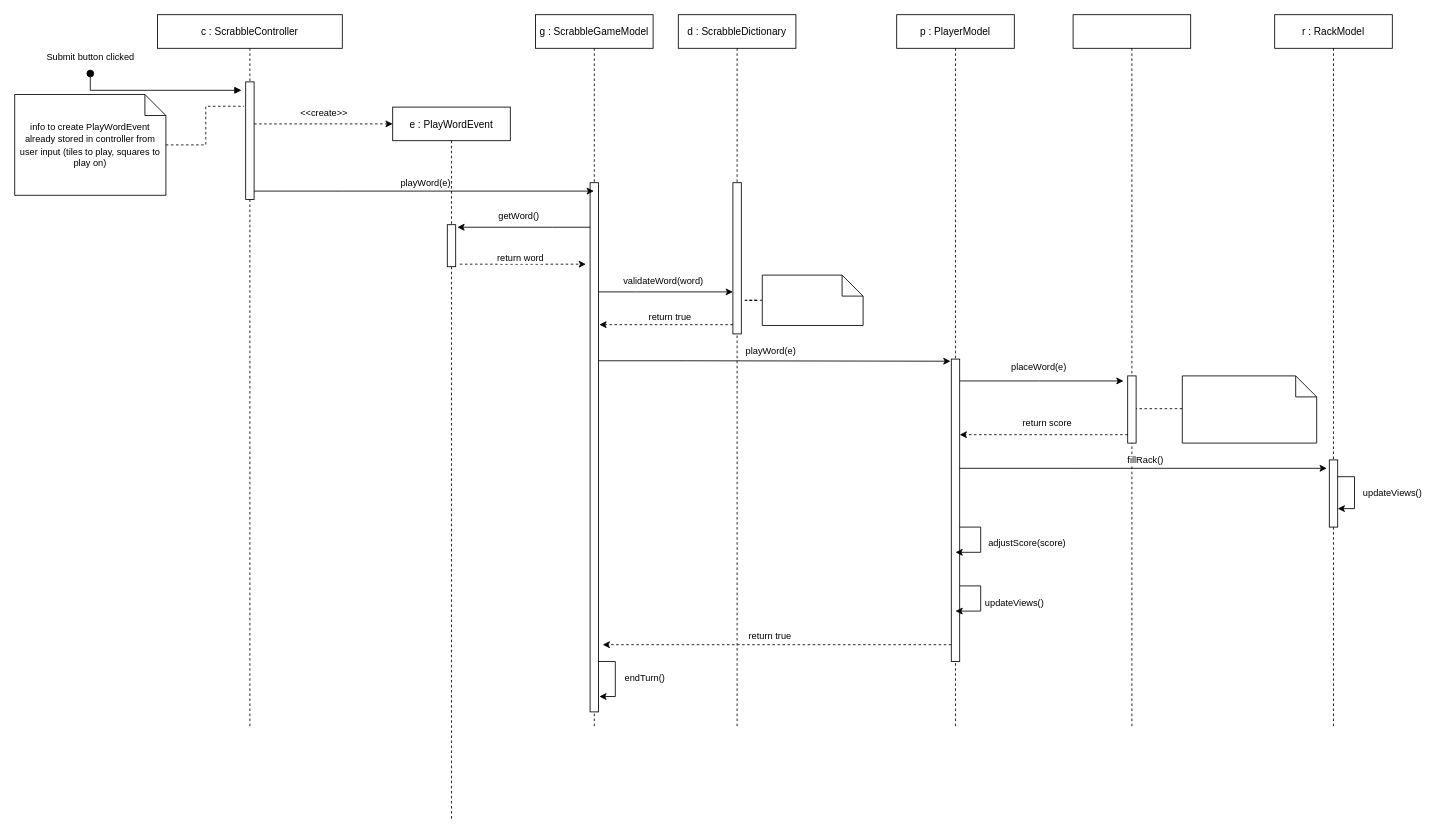
The diagram is 1436 pixels wide and 836 high, and some of its shapes have lost their labels. Each missing label, with the centre of its shape:
"b : BoardModel" goes at (1131,371).
"internal logic to validate word legality" goes at (812,300).
"internal logic to validate word placement on the board" goes at (1249,409).
